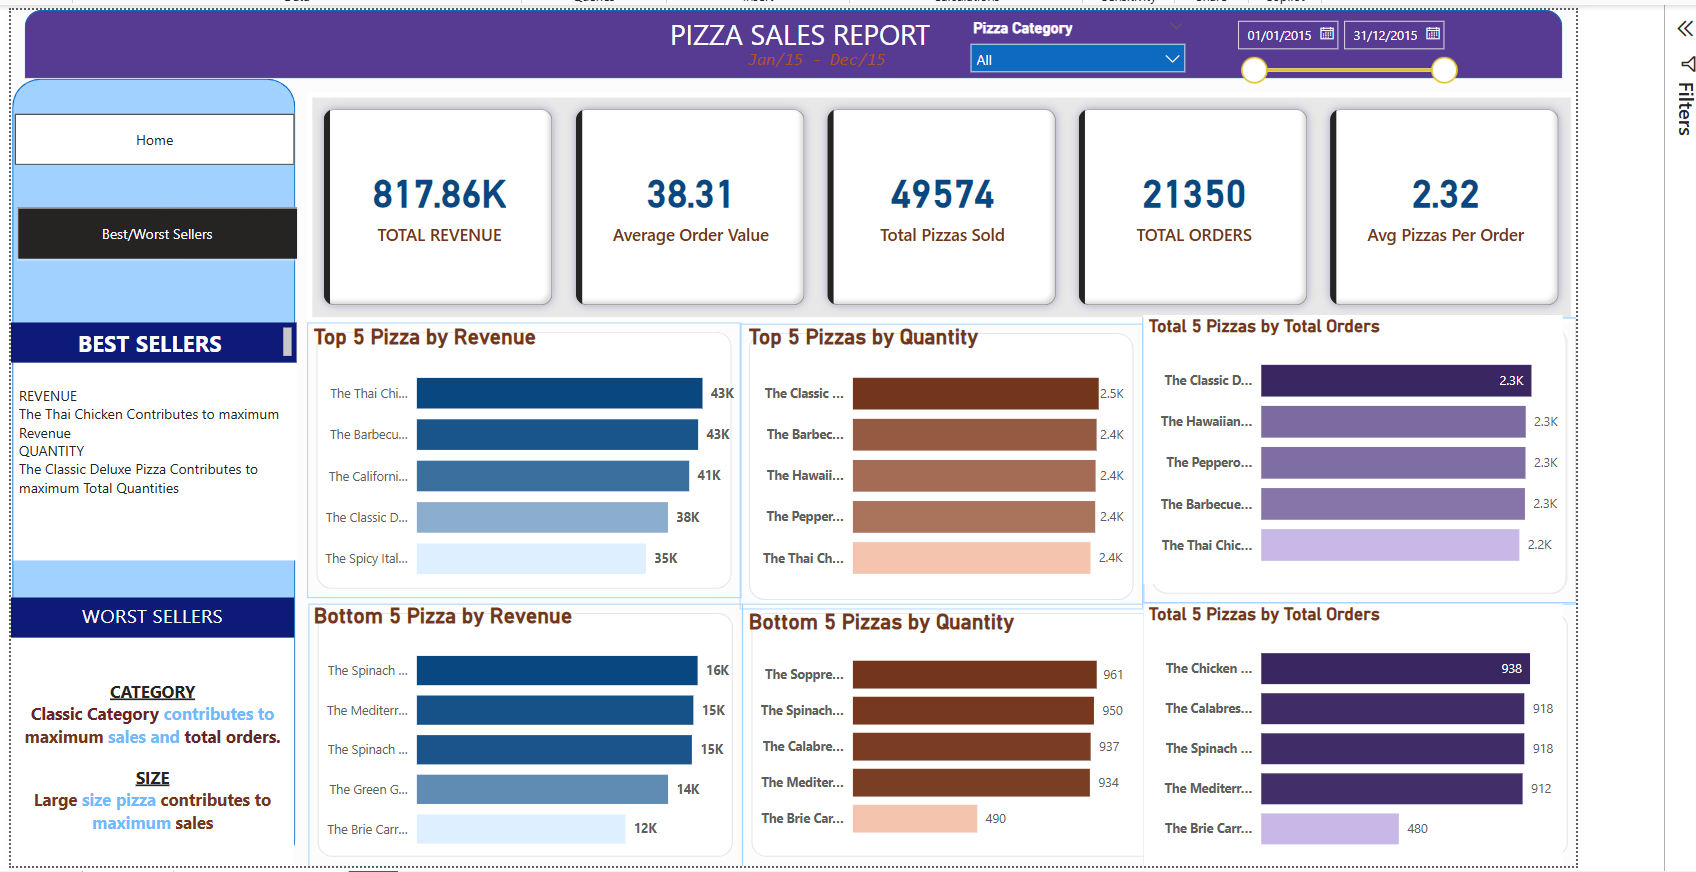

This screenshot's page, from the dashboard's own definition file:
{"tool":"powerbi","page":{"name":"Best/Worst Sellers","canvas":[1500,820],"ordinal":1},"visuals":[{"type":"cardVisual","fields":{"Data":["pizza_sales.TOTAL REVENUE","pizza_sales.Average Order Value","pizza_sales.Total Pizzas Sold","pizza_sales.TOTAL ORDERS","pizza_sales.Avg Pizzas Per Order"]},"box":[283.4,79,1216.8,220.7],"z":0},{"type":"shape","box":[13.6,0,1473,65.4],"z":1000},{"type":"textbox","box":[700.4,34.1,151.3,31.3],"z":2000},{"type":"shape","box":[283.6,298.9,415.7,264.2],"z":3000},{"type":"textbox","box":[626.8,0,267.1,50.4],"z":4000},{"type":"shape","box":[1.4,65.4,271.2,754.9],"z":5000},{"type":"textbox","box":[2.7,337.9,271.2,189.4],"z":6000},{"type":"textbox","box":[0,299.8,273.9,38.2],"z":7000},{"type":"textbox","box":[0,600.9,271.2,219.4],"z":8000},{"type":"textbox","box":[0,562.8,271.2,38.2],"z":9000},{"type":"slicer","fields":{"Values":["pizza_sales.pizza_category"]},"box":[908.9,4.1,226.2,55.9],"z":10000},{"type":"slicer","fields":{"Values":["pizza_sales.order_date"]},"box":[1162.6,0,231.6,78.8],"z":11000},{"type":"shape","box":[698,300.3,386.5,273.9],"z":12000},{"type":"shape","box":[1084.5,294.8,415.7,273.9],"z":13000},{"type":"shape","box":[285,568.7,415.7,251.7],"z":14000},{"type":"shape","box":[700.8,568.7,415.7,251.7],"z":15000},{"type":"shape","box":[1084.5,568.7,415.7,251.7],"z":16000},{"type":"barChart","title":"Top 5 Pizza by Revenue","fields":{"Category":["pizza_sales.pizza_name"],"Y":["pizza_sales.TOTAL REVENUE"]},"box":[284.6,300.7,413.3,262.1],"z":17000},{"type":"barChart","title":"Bottom 5 Pizza by Revenue","fields":{"Category":["pizza_sales.pizza_name"],"Y":["pizza_sales.TOTAL REVENUE"]},"box":[284.6,567.6,411.7,252.5],"z":18000},{"type":"barChart","title":"Top 5 Pizzas by Quantity","fields":{"Category":["pizza_sales.pizza_name"],"Y":["pizza_sales.Total Pizzas Sold"]},"box":[701.8,301.1,369.3,261.6],"z":19000},{"type":"shape","box":[1084.3,294.8,415.7,273.9],"z":20000},{"type":"barChart","title":"Bottom 5 Pizzas by Quantity","fields":{"Category":["pizza_sales.pizza_name"],"Y":["pizza_sales.Total Pizzas Sold"]},"box":[701.8,573.7,369.3,234.4],"z":21000},{"type":"barChart","title":"Total 5 Pizzas by Total Orders","fields":{"Y":["pizza_sales.TOTAL ORDERS"],"Category":["pizza_sales.pizza_name"]},"box":[1084.7,291.6,402,257.5],"z":22000},{"type":"barChart","title":"Total 5 Pizzas by Total Orders","fields":{"Y":["pizza_sales.TOTAL ORDERS"],"Category":["pizza_sales.pizza_name"]},"box":[1084.7,568.2,402,252.1],"z":22001},{"type":"pageNavigator","box":[3.2,99.7,268.5,49.9],"z":22002},{"type":"pageNavigator","box":[6.4,189.8,268.5,49.9],"z":22003}]}

Visuals, with their boxes on the page's 1500x820 design canvas (x1, y1, x2, y2). These are canvas units, not pixel positions in the 1696x872 screenshot, which may show the page scaled, cropped or inside an application window:
cardVisual - pizza_sales.TOTAL REVENUE x pizza_sales.Average Order Value: pyautogui.locateOnScreen(283, 79, 1500, 300)
shape: pyautogui.locateOnScreen(14, 0, 1487, 65)
textbox: pyautogui.locateOnScreen(700, 34, 852, 65)
shape: pyautogui.locateOnScreen(284, 299, 699, 563)
textbox: pyautogui.locateOnScreen(627, 0, 894, 50)
shape: pyautogui.locateOnScreen(1, 65, 273, 820)
textbox: pyautogui.locateOnScreen(3, 338, 274, 527)
textbox: pyautogui.locateOnScreen(0, 300, 274, 338)
textbox: pyautogui.locateOnScreen(0, 601, 271, 820)
textbox: pyautogui.locateOnScreen(0, 563, 271, 601)
slicer - pizza_sales.pizza_category: pyautogui.locateOnScreen(909, 4, 1135, 60)
slicer - pizza_sales.order_date: pyautogui.locateOnScreen(1163, 0, 1394, 79)
shape: pyautogui.locateOnScreen(698, 300, 1084, 574)
shape: pyautogui.locateOnScreen(1084, 295, 1500, 569)
shape: pyautogui.locateOnScreen(285, 569, 701, 820)
shape: pyautogui.locateOnScreen(701, 569, 1116, 820)
shape: pyautogui.locateOnScreen(1084, 569, 1500, 820)
"Top 5 Pizza by Revenue" barChart: pyautogui.locateOnScreen(285, 301, 698, 563)
"Bottom 5 Pizza by Revenue" barChart: pyautogui.locateOnScreen(285, 568, 696, 820)
"Top 5 Pizzas by Quantity" barChart: pyautogui.locateOnScreen(702, 301, 1071, 563)
shape: pyautogui.locateOnScreen(1084, 295, 1500, 569)
"Bottom 5 Pizzas by Quantity" barChart: pyautogui.locateOnScreen(702, 574, 1071, 808)
"Total 5 Pizzas by Total Orders" barChart: pyautogui.locateOnScreen(1085, 292, 1487, 549)
"Total 5 Pizzas by Total Orders" barChart: pyautogui.locateOnScreen(1085, 568, 1487, 820)
pageNavigator: pyautogui.locateOnScreen(3, 100, 272, 150)
pageNavigator: pyautogui.locateOnScreen(6, 190, 275, 240)
